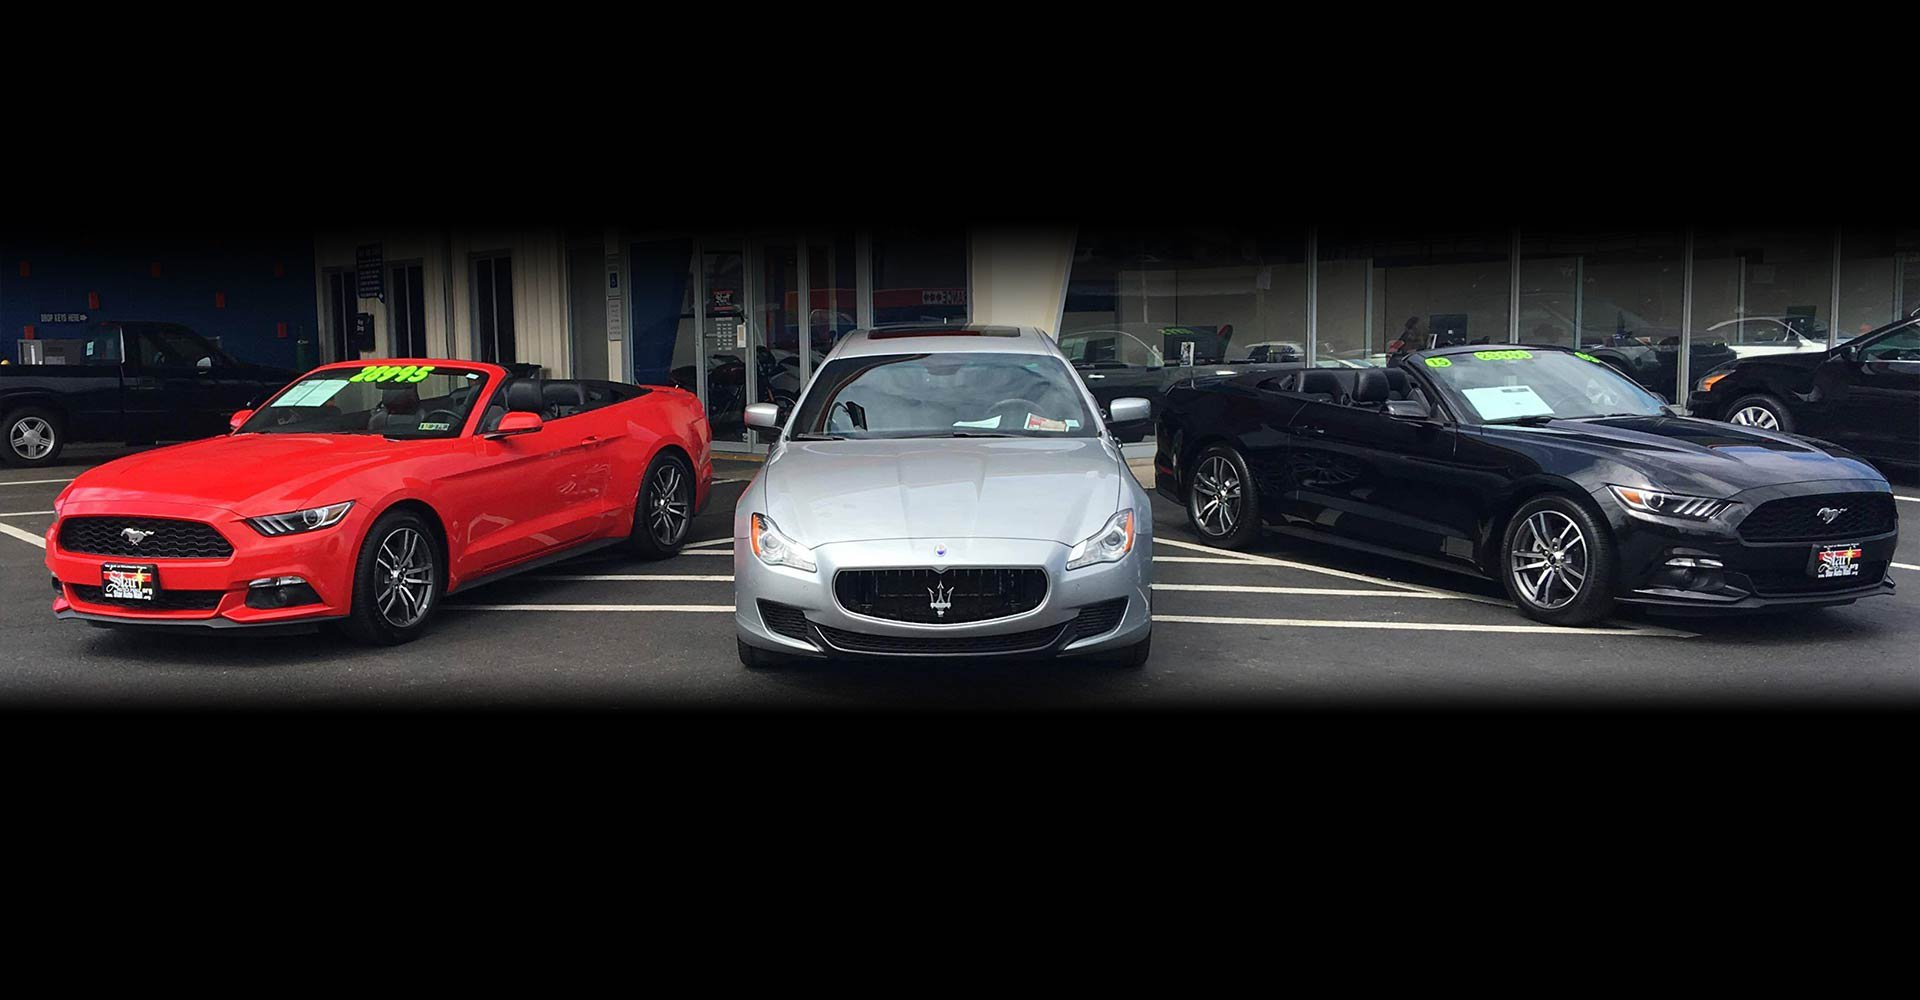car: (1147, 346, 1900, 643), (44, 350, 721, 659), (734, 316, 1161, 673), (4, 320, 316, 486), (1714, 292, 1917, 486)
